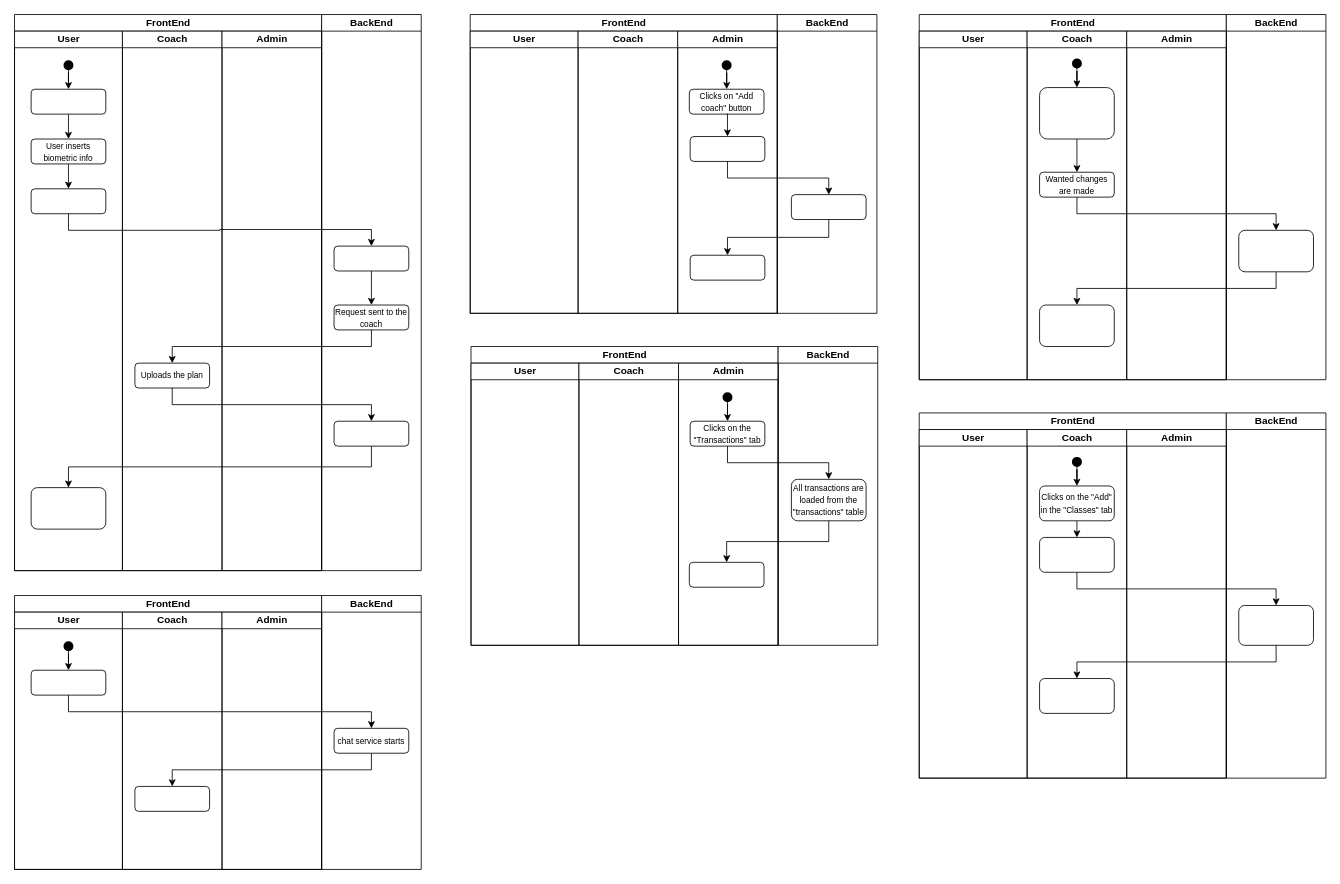
Some shapes in this 1340 by 884 pixel diagram are drawn without their labels. The shapes that lost their labels are listed below. From the top down, each one's centre as x and y in pixels, then its label:
point 68,101: Request for plan
point 1076,113: Clicks on "Modify" button in personal information tab
point 727,148: Inserts the new coach's info
point 68,201: User is led to payment page
point 828,207: Coach added to the coaches' table
point 371,258: Processing the payment
point 727,267: showing the Coaches' list
point 1275,250: Changes are saved in the coaches' table
point 1076,325: Modified "personal Information" tab is shown
point 371,433: sending the plan to the user
point 68,508: "Active request" changes into "New Plan"
point 726,574: Transactions list is visible
point 1076,554: Inserts the time of the new class
point 1275,625: A new class is added to the "Classes" table
point 68,682: Starts a chat with coach
point 1076,695: list of classes is shown
point 172,798: Message shown in the other end
